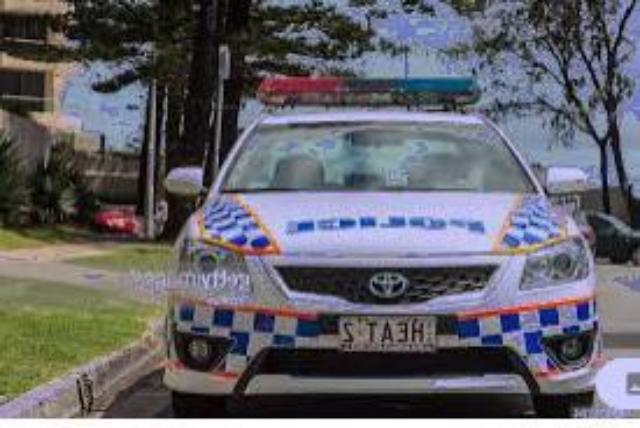police: (158, 77, 600, 419)
